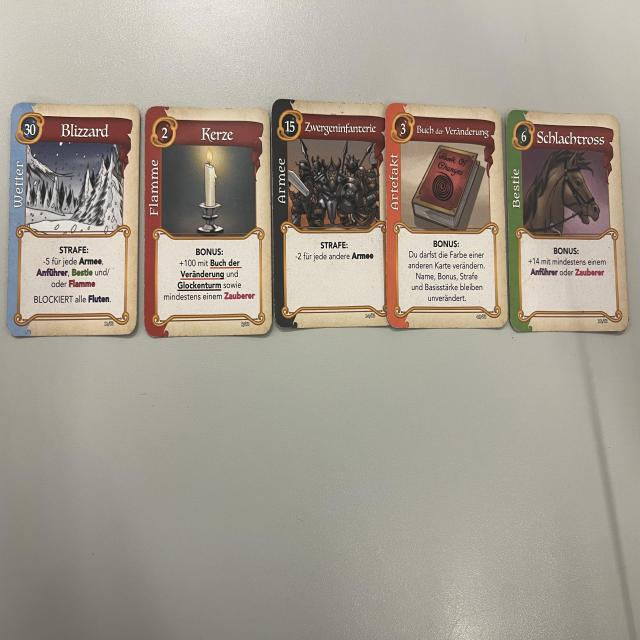Blizzard: (6, 103, 140, 342)
Book Of Changes: (385, 102, 510, 335)
Candle: (145, 100, 271, 348)
Dwarvish Infantry: (269, 99, 390, 335)
War Horse: (505, 111, 630, 332)
